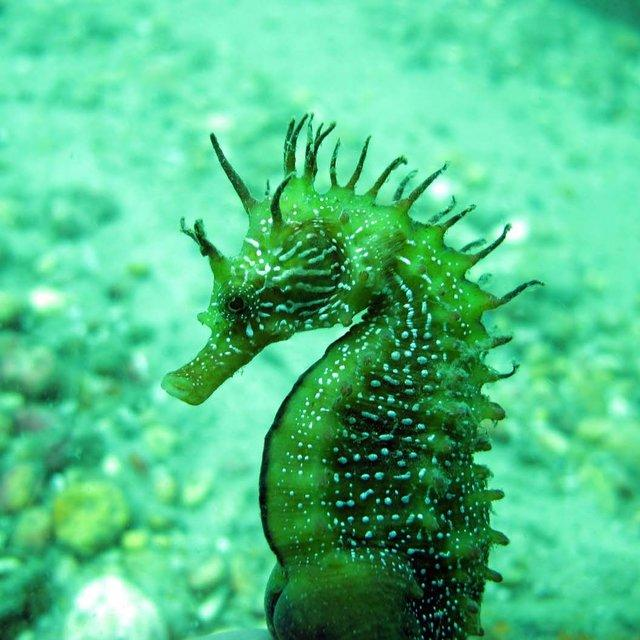Guttu: (152, 168, 372, 410)
